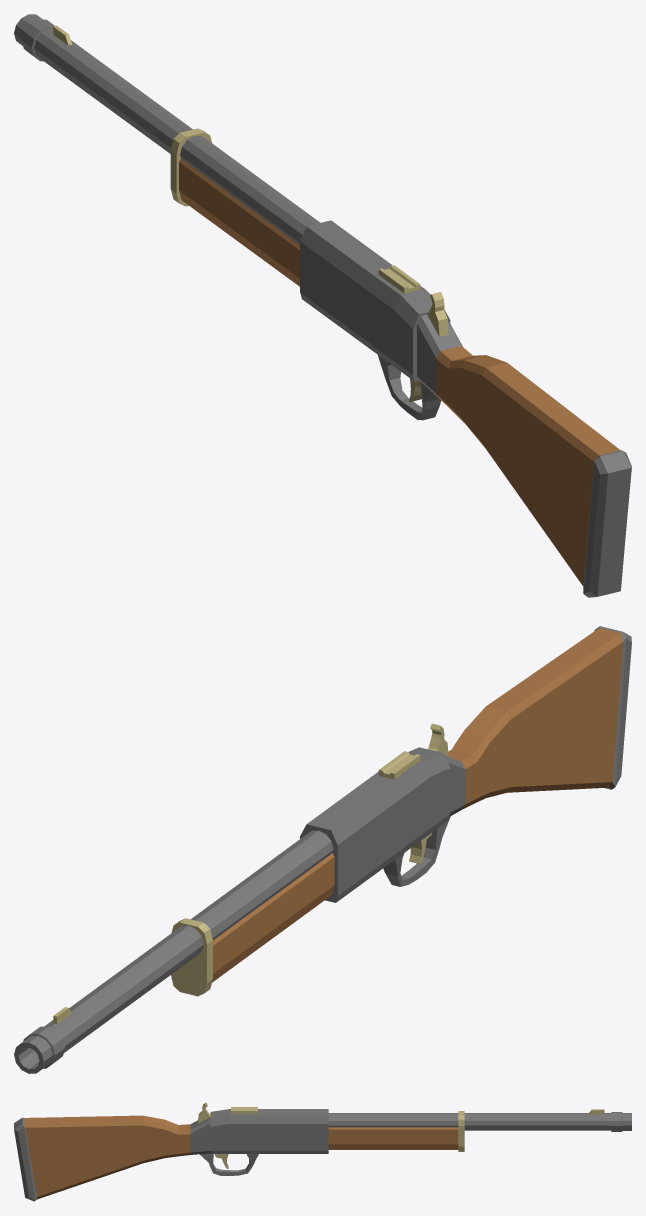
File: sasg.glb
The picture shows the model from 3 angles, top to bottom: view 1: azimuth 30°, elevation 25°; view 2: azimuth 150°, elevation 25°; view 3: azimuth 270°, elevation 25°; orthographic projection. The views are drawn at different scales.
Visible parts, largest first — view 1: Shotgun_A; view 2: Shotgun_A; view 3: Shotgun_A.
Part boxes in pixels (x1,y1,x2,y2): Shotgun_A: [14, 14, 631, 597]; Shotgun_A: [14, 626, 631, 1073]; Shotgun_A: [14, 1102, 631, 1201].
Bounding box in the file's own units: 39.46 × 183 × 1079.
